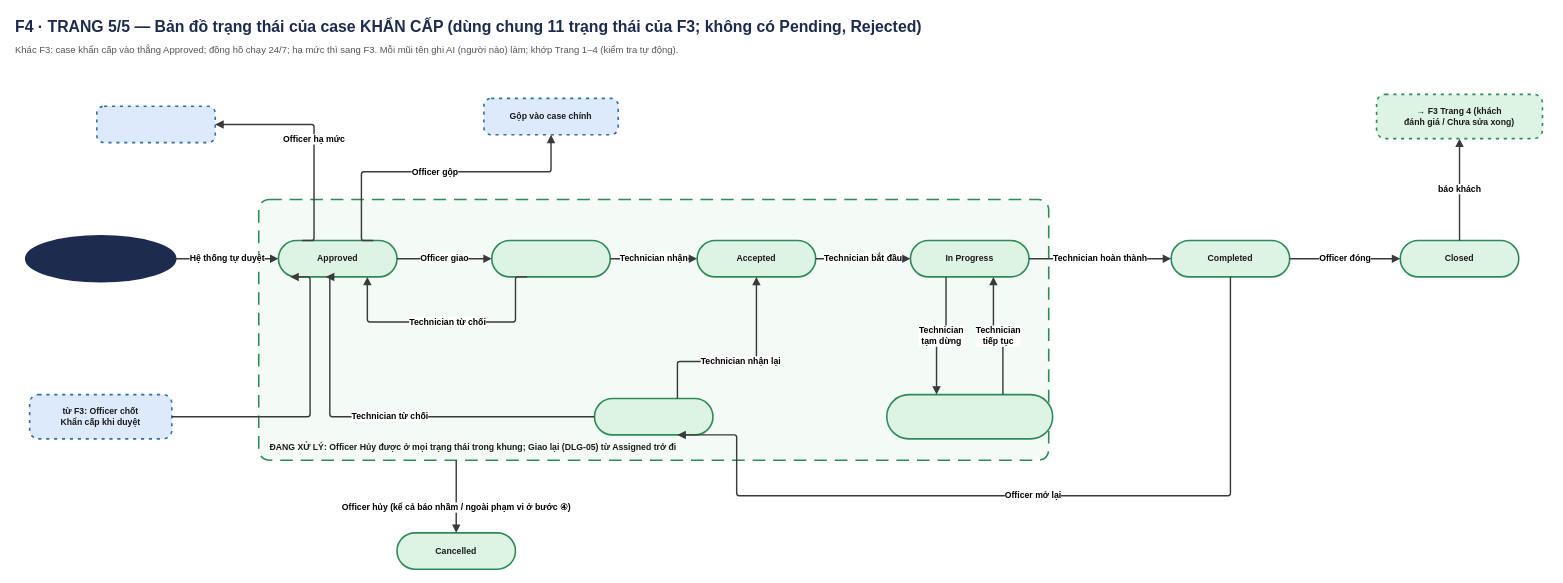
The diagram is 1563 pixels wide and 583 high, and some of its shapes have lost their labels. The shapes that lost their labels are listed below. From the top down, each one's centre as x and y in pixels, then its label:
At (x=156, y=124): "→ F3 (hạ mức)".
At (x=100, y=258): "BẮT ĐẦU — case tạo ở F2, loại dịch vụ khẩn cấp".
At (x=551, y=258): "Assigned".
At (x=653, y=416): "Reopened".
At (x=969, y=416): "On Hold (chờ bên thứ 3 / linh kiện)".
